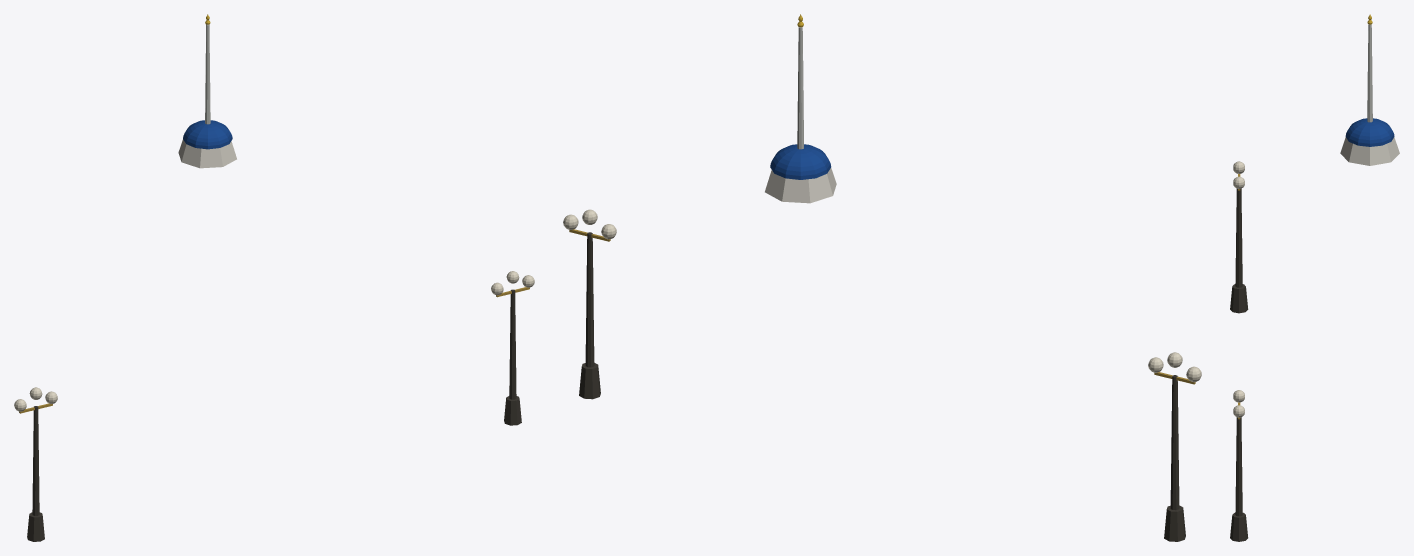
Rendered from benxenam-hero.glb.
The picture shows the model from 3 angles, left to right: view 1: azimuth 30°, elevation 25°; view 2: azimuth 150°, elevation 25°; view 3: azimuth 270°, elevation 25°; orthographic projection. The views are drawn at different scales.
Visible parts, largest first — view 1: benxenam_hero_ornaments; view 2: benxenam_hero_ornaments; view 3: benxenam_hero_ornaments.
Part boxes in pixels (left/top/right/bottom): benxenam_hero_ornaments: left=14, top=14, right=534, bottom=541; benxenam_hero_ornaments: left=563, top=14, right=1201, bottom=541; benxenam_hero_ornaments: left=1230, top=14, right=1399, bottom=541.
Bounding box in the file's own units: 20.68 × 15.88 × 5.97.
